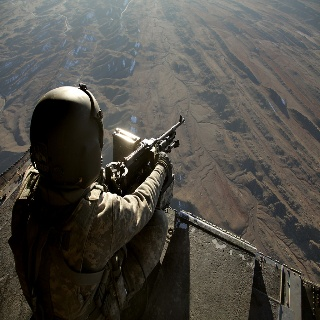rifle: (103, 112, 189, 191)
